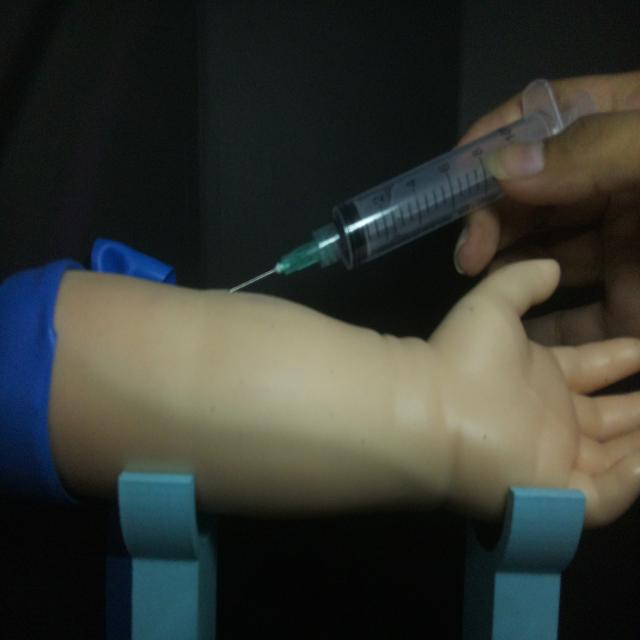21deg: (228, 78, 580, 293)
